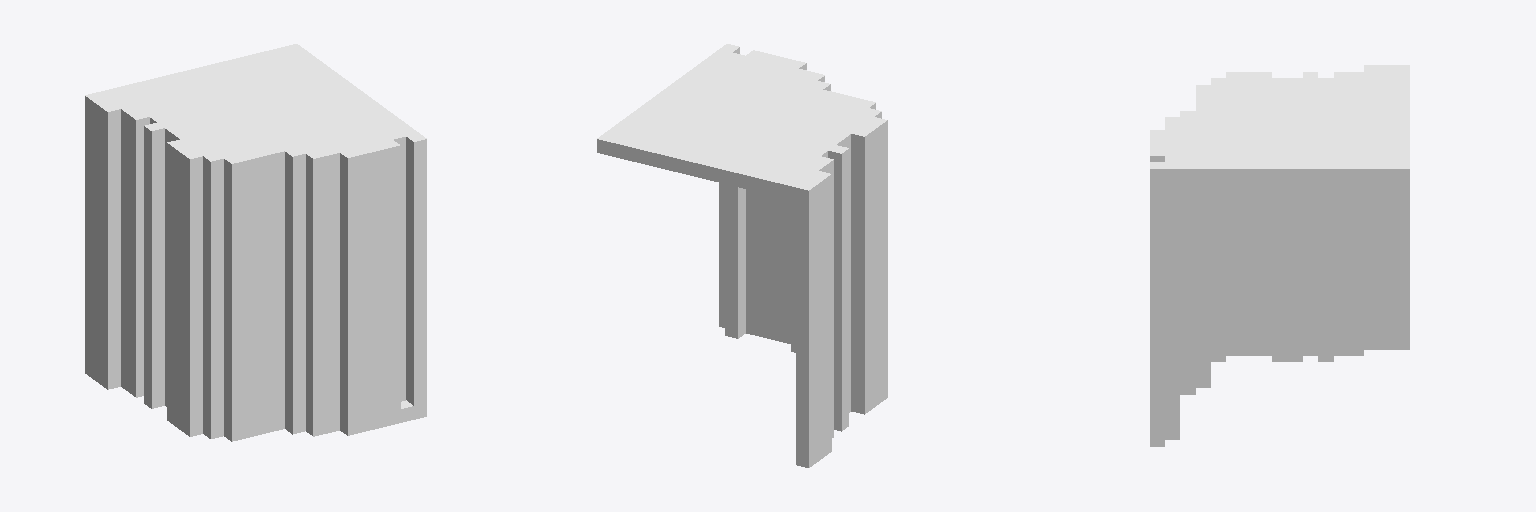
File: island-1.obj
3 views of the same model, side by side, from view 1: azimuth 30°, elevation 25°; view 2: azimuth 150°, elevation 25°; view 3: azimuth 270°, elevation 25° (orthographic).
Parts seen in each view (by area): view 1: object 1; view 2: object 1; view 3: object 1.
Part boxes in pixels (left/top/right/bottom): object 1: left=85, top=44, right=426, bottom=441; object 1: left=597, top=44, right=887, bottom=467; object 1: left=1150, top=65, right=1409, bottom=446.
Size of the model in its own units: 1.6 by 2 by 1.7.